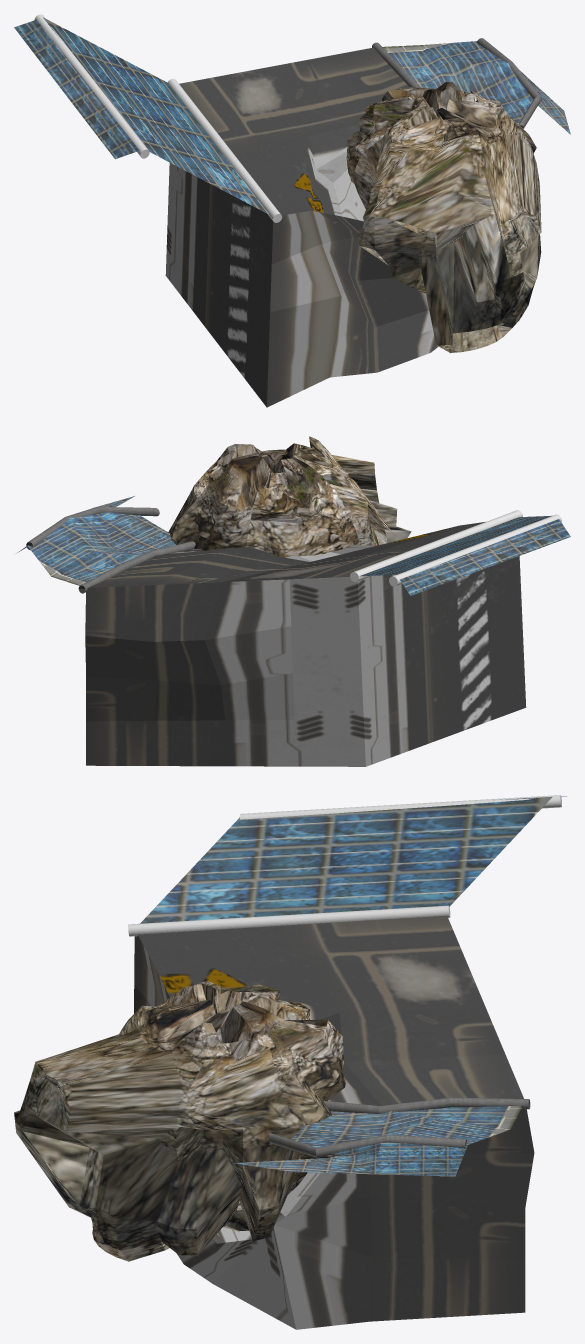
File: Basura_Espacial.fbx
3 views of the same model, one above another, from view 1: azimuth 30°, elevation 25°; view 2: azimuth 150°, elevation 25°; view 3: azimuth 270°, elevation 25° (orthographic). The views are drawn at different scales.
Visible parts, largest first — view 1: Cube, Cube.002, Cylinder.001, Cylinder, Cube.001; view 2: Cube, Cube.002, Cube.001, Cylinder.001, Cylinder; view 3: Cube, Cube.002, Cube.001, Cylinder.001, Cylinder.
Part boxes in pixels (left/top/right/bottom): Cube: left=14, top=17, right=570, bottom=407; Cube.002: left=346, top=82, right=541, bottom=353; Cylinder.001: left=167, top=78, right=282, bottom=222; Cylinder: left=34, top=14, right=149, bottom=158; Cube.001: left=372, top=38, right=541, bottom=128; Cube: left=16, top=496, right=570, bottom=766; Cube.002: left=168, top=436, right=411, bottom=557; Cube.001: left=26, top=507, right=195, bottom=593; Cylinder.001: left=350, top=510, right=522, bottom=582; Cylinder: left=389, top=514, right=561, bottom=586; Cube: left=134, top=796, right=566, bottom=1329; Cube.002: left=14, top=981, right=345, bottom=1261; Cube.001: left=269, top=1097, right=530, bottom=1157; Cylinder.001: left=128, top=905, right=450, bottom=936; Cylinder: left=239, top=795, right=561, bottom=819.
Bounding box in the file's own units: 5.59 × 3.4 × 4.79.
